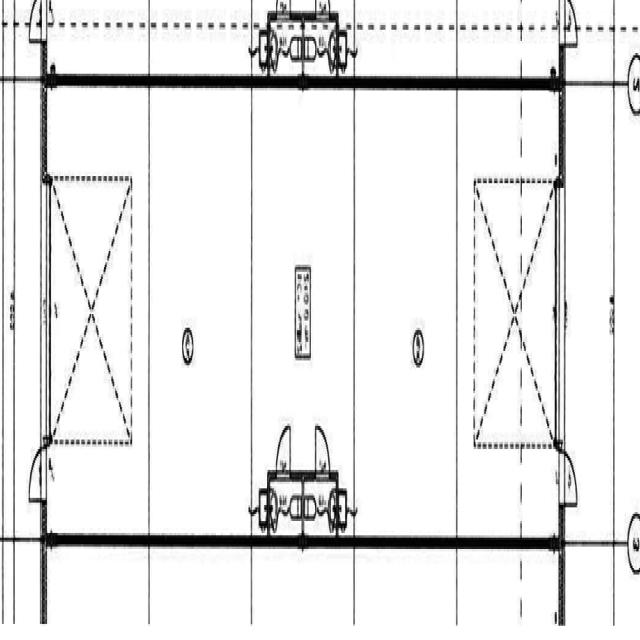door: (559, 453, 581, 505), (25, 449, 47, 501), (57, 150, 70, 203), (537, 150, 548, 198)
